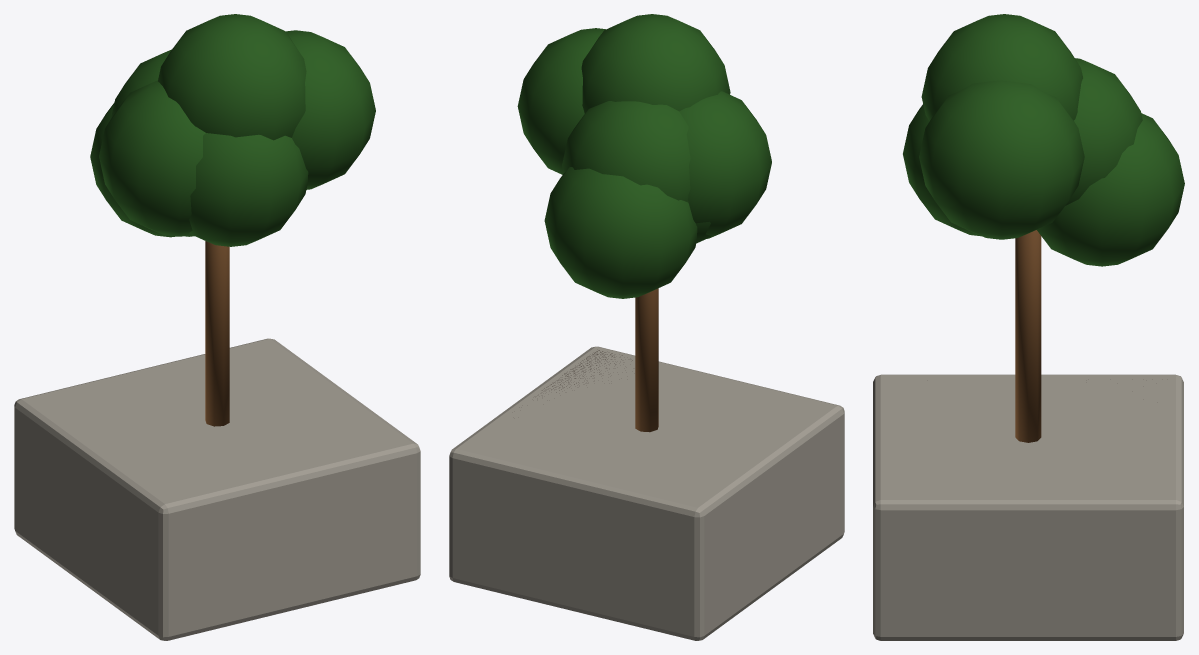
The model's file is planter.glb.
The picture shows the model from 3 angles, left to right: view 1: azimuth 30°, elevation 25°; view 2: azimuth 150°, elevation 25°; view 3: azimuth 270°, elevation 25°; orthographic projection. The views are drawn at different scales.
Visible parts, largest first — view 1: planter; view 2: planter; view 3: planter.
Part boxes in pixels (box(x1,y1,x2,y2)): planter: box(14, 14, 420, 640); planter: box(449, 14, 844, 640); planter: box(873, 14, 1184, 640).
Bounding box in the file's own units: 1.22 × 2.38 × 1.2.
1 material, 1 textured.
